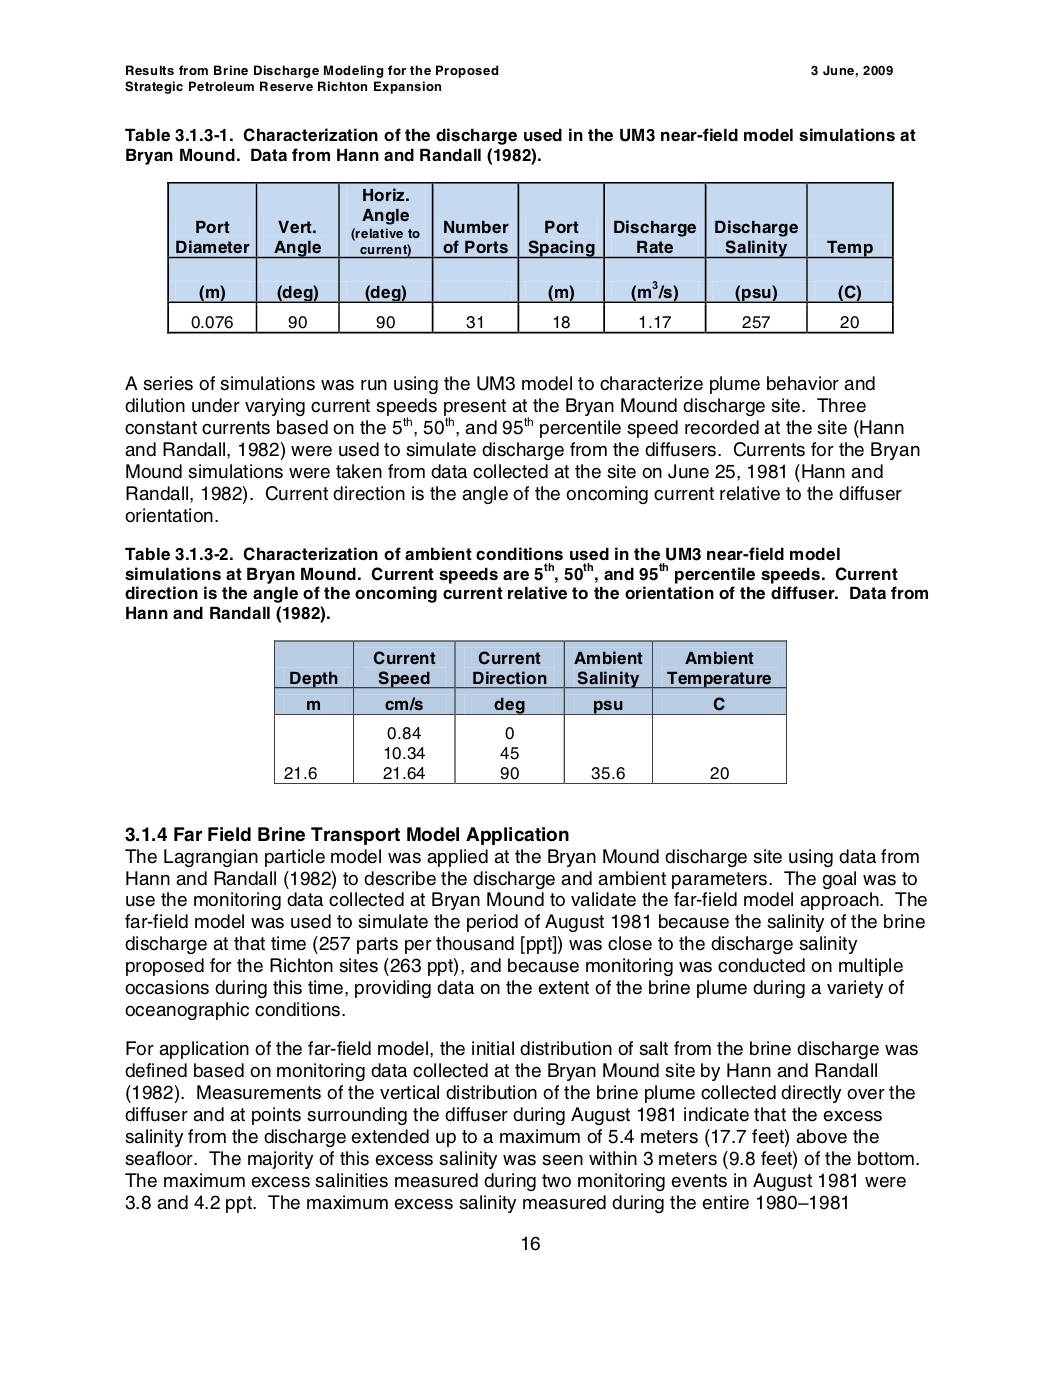Table: (167, 181, 893, 334), (274, 639, 786, 783)
